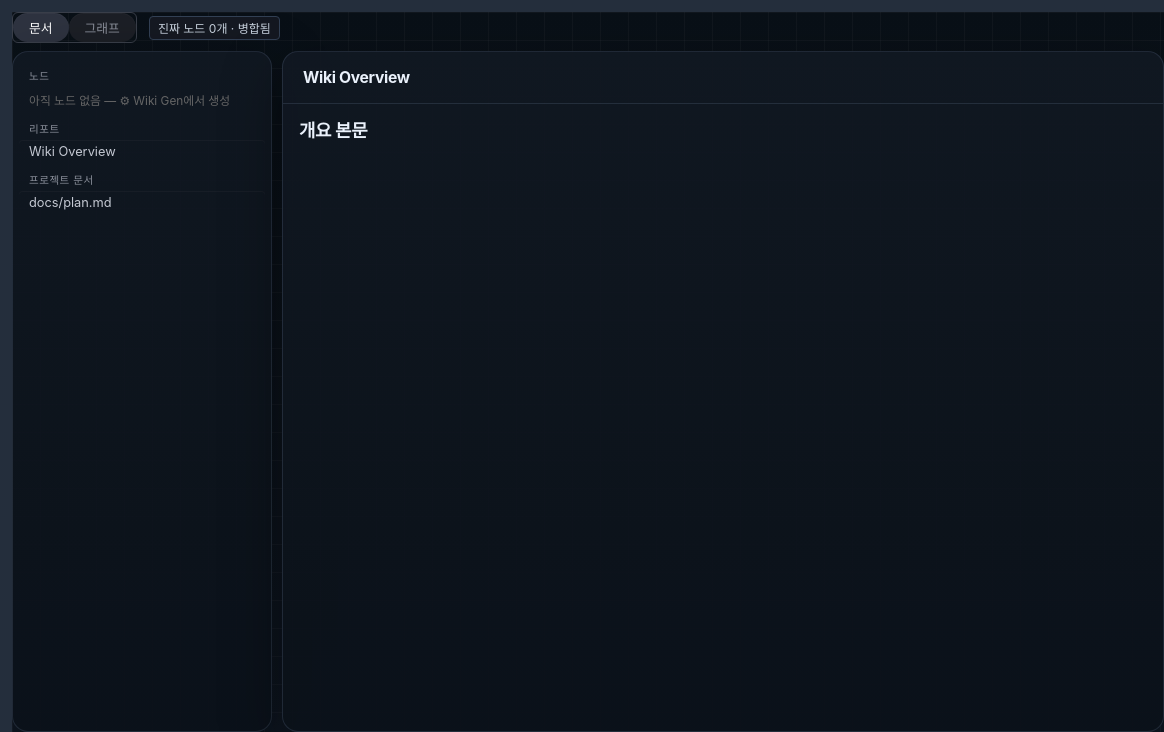
KnowledgeView › clicking a project doc loads it via fs:readDoc
Click the button "docs/plan.md" at (142,202), box x1=19 y1=191 x2=265 y2=214
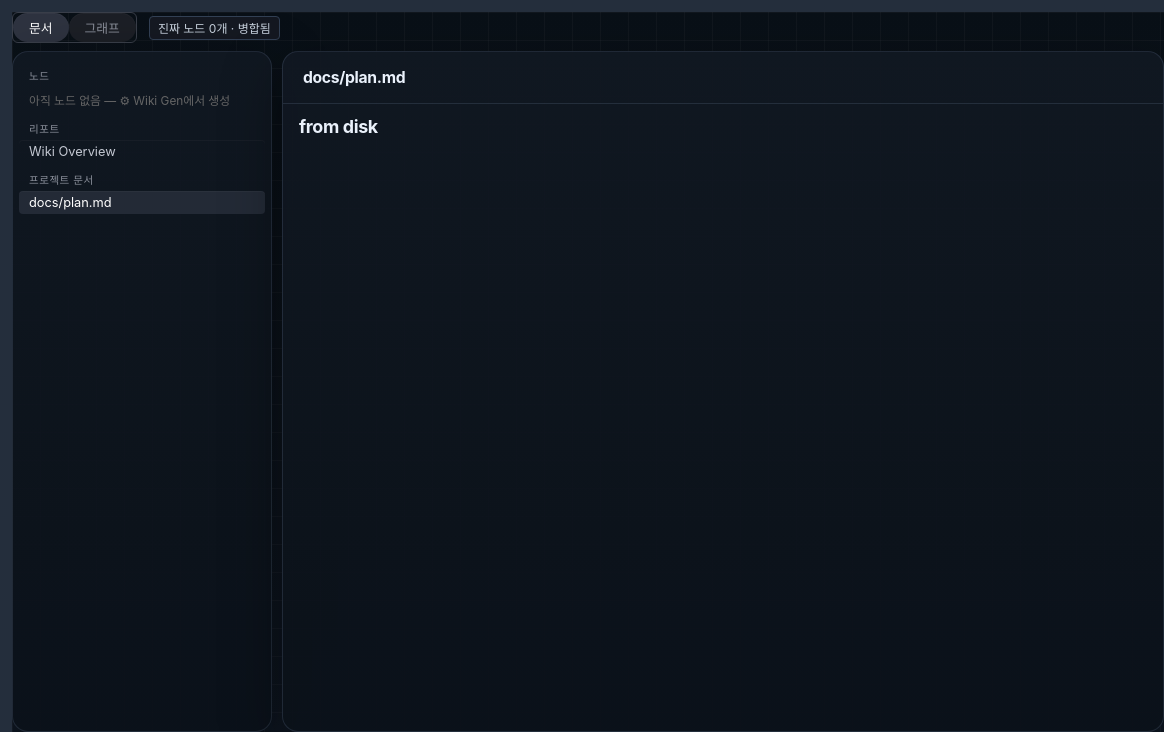
expect the heading "from disk" is shown: met, box x1=299 y1=116 x2=378 y2=137
